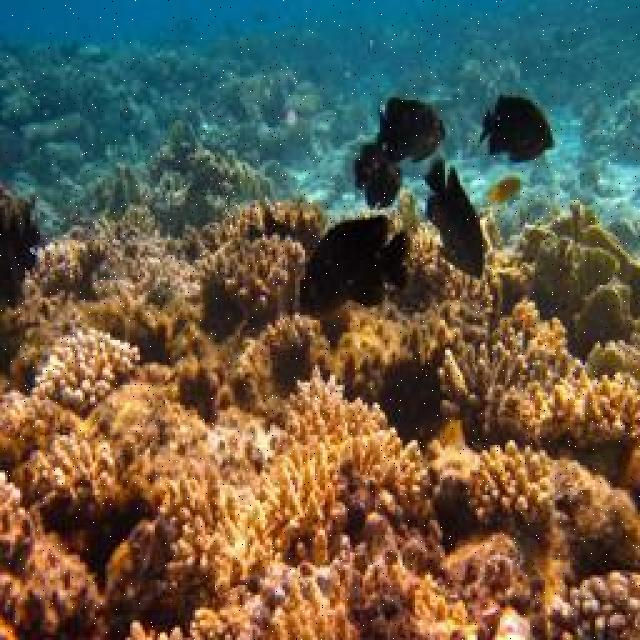fish: (301, 215, 412, 309), (422, 155, 487, 279), (480, 96, 556, 163), (377, 98, 446, 165), (351, 144, 404, 208)
reefs: (0, 184, 638, 638)
